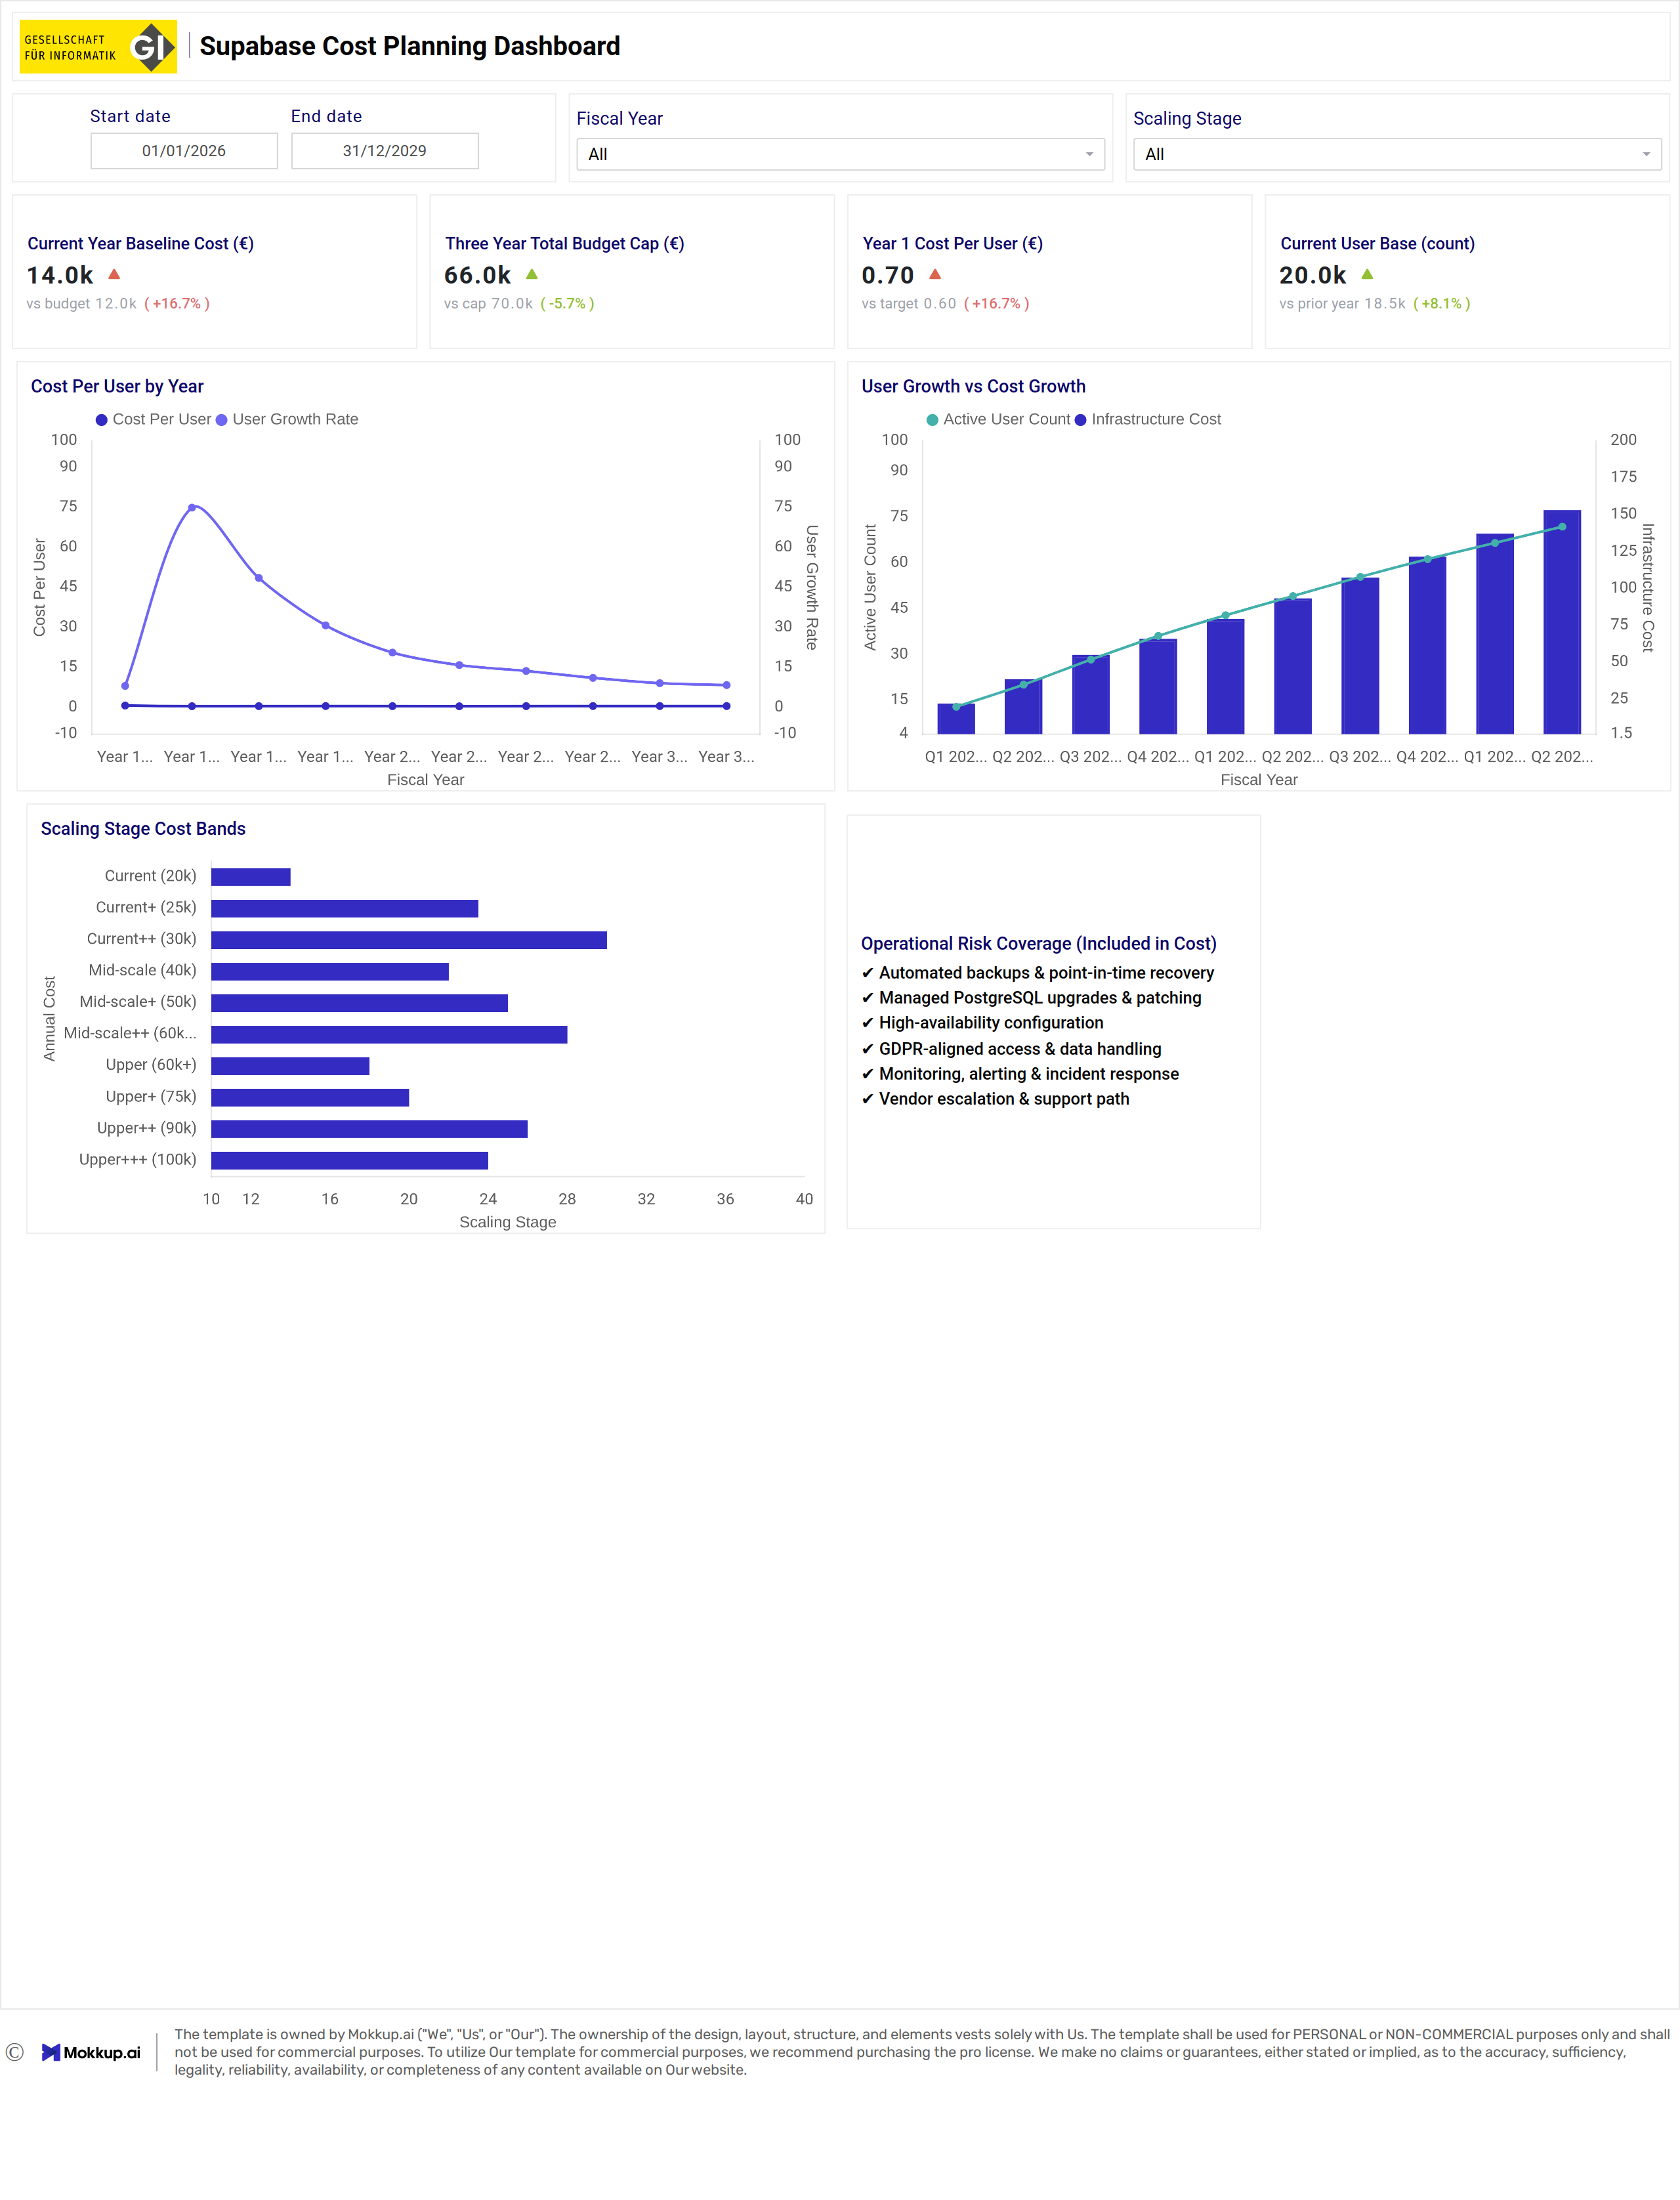

The page's visual inventory and layout, read from the dashboard file:
{"tool":"powerbi","page":{"name":"Powerbi Guide","canvas":[1280,720],"ordinal":0},"visuals":[{"type":"textbox","box":[26,302,417.3,43.6],"z":0,"group":"g1"},{"type":"textbox","box":[27.4,156,722.7,146],"z":0},{"type":"textbox","box":[50.5,352,392.7,108.2],"z":1000,"group":"g1"},{"type":"image","box":[27.3,22.7,225.5,63.6],"z":2000},{"type":"shape","box":[32.1,365.8,12,12],"z":2000,"group":"g1"},{"type":"shape","box":[32.1,399.8,12.4,12],"z":3000,"group":"g1"},{"type":"actionButton","box":[32,498,496,81],"z":3000},{"type":"image","box":[640,102.5,598.8,531.2],"z":4000},{"type":"shape","box":[31.6,430.8,12.5,12],"z":4000,"group":"g1"},{"type":"group","id":"g1","title":"Group 1","box":[26,302,418,158],"z":7002}]}

Visuals, with their boxes on the page's 1280x720 design canvas (x1, y1, x2, y2). These are canvas units, not pixel positions in the 1680x2200 screenshot, which may show the page scaled, cropped or inside an application window:
textbox: (left=26, top=302, right=443, bottom=346)
textbox: (left=27, top=156, right=750, bottom=302)
textbox: (left=50, top=352, right=443, bottom=460)
image: (left=27, top=23, right=253, bottom=86)
shape: (left=32, top=366, right=44, bottom=378)
shape: (left=32, top=400, right=44, bottom=412)
actionButton: (left=32, top=498, right=528, bottom=579)
image: (left=640, top=102, right=1239, bottom=634)
shape: (left=32, top=431, right=44, bottom=443)
"Group 1" group: (left=26, top=302, right=444, bottom=460)
